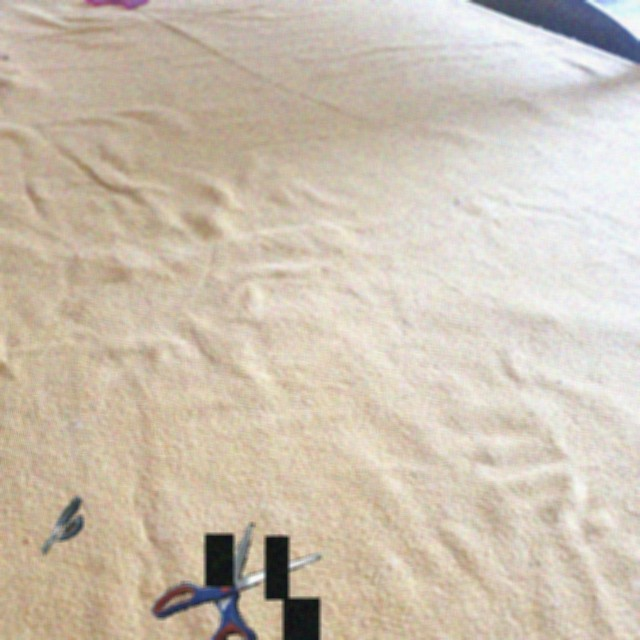scissors: (151, 523, 322, 640), (39, 496, 83, 556)
